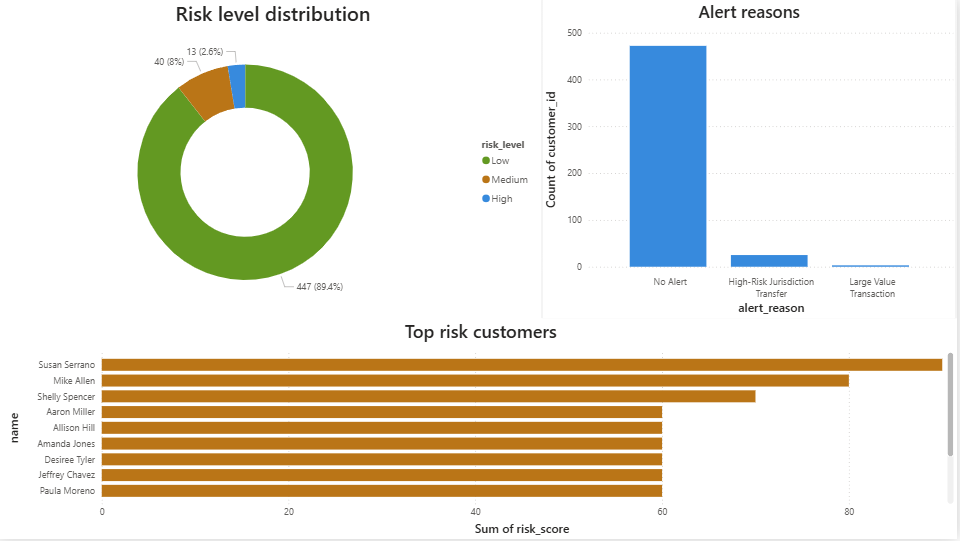

This screenshot's page, from the dashboard's own definition file:
{"tool":"powerbi","page":{"name":"Risk Analysis","canvas":[1280,720],"ordinal":1},"visuals":[{"type":"donutChart","title":"Risk level distribution","fields":{"Category":["aml_monitoring customer_risk_summary.risk_level"],"Y":["CountNonNull(aml_monitoring customer_risk_summary.customer_id)"]},"box":[10,0,716,426],"z":0},{"type":"clusteredColumnChart","title":"Alert reasons ","fields":{"Category":["aml_monitoring customer_risk_summary.alert_reason"],"Y":["Count(aml_monitoring customer_risk_summary.customer_id)"]},"box":[726,0,554,426],"z":1000},{"type":"clusteredBarChart","title":"Top risk customers","fields":{"Category":["aml_monitoring customer_risk_summary.name"],"Y":["Sum(aml_monitoring customer_risk_summary.risk_score)"]},"box":[10,426,1270,294],"z":2000}]}

Visuals, with their boxes in screenshot pixels (x1, y1, x2, y2), scaled from the page's 1280x720 canvas onto the 960x541 screenshot:
"Risk level distribution" donutChart: locate(8, 0, 544, 320)
"Alert reasons " clusteredColumnChart: locate(544, 0, 959, 320)
"Top risk customers" clusteredBarChart: locate(8, 320, 959, 540)
